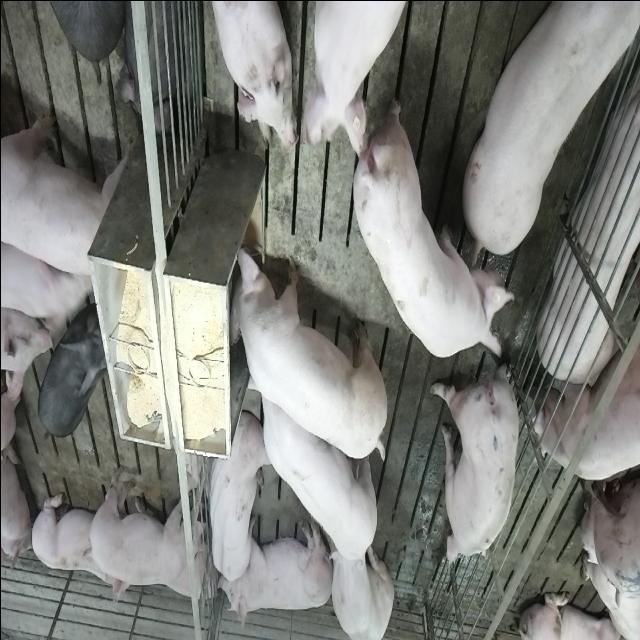Feeding: (221, 238, 385, 466)
Lateral_lying: (538, 50, 640, 427), (214, 512, 334, 626)
Sitting: (204, 412, 266, 582), (324, 526, 393, 639)
Standing: (465, 0, 640, 258), (346, 92, 512, 361), (251, 361, 381, 563), (1, 101, 134, 277), (430, 351, 520, 566), (86, 458, 212, 588), (534, 333, 640, 479), (0, 230, 92, 331)
Sternal_lying: (206, 0, 294, 153), (30, 487, 126, 609)
